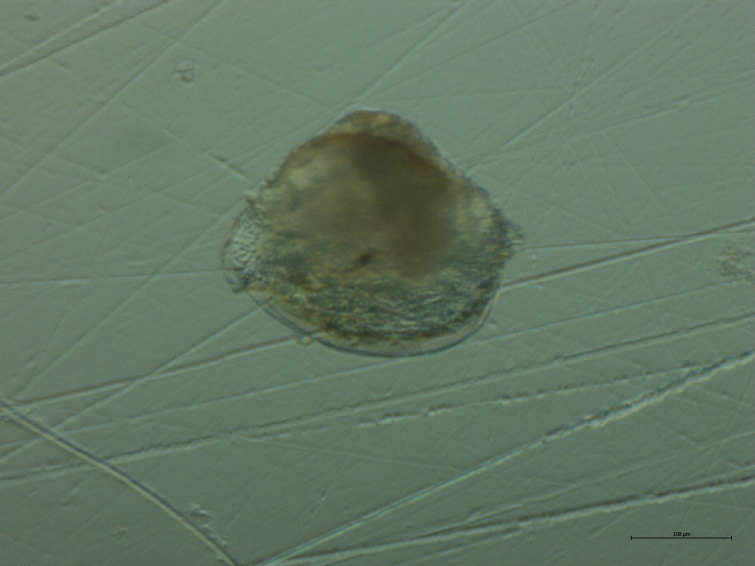oyster: (209, 100, 543, 375)
